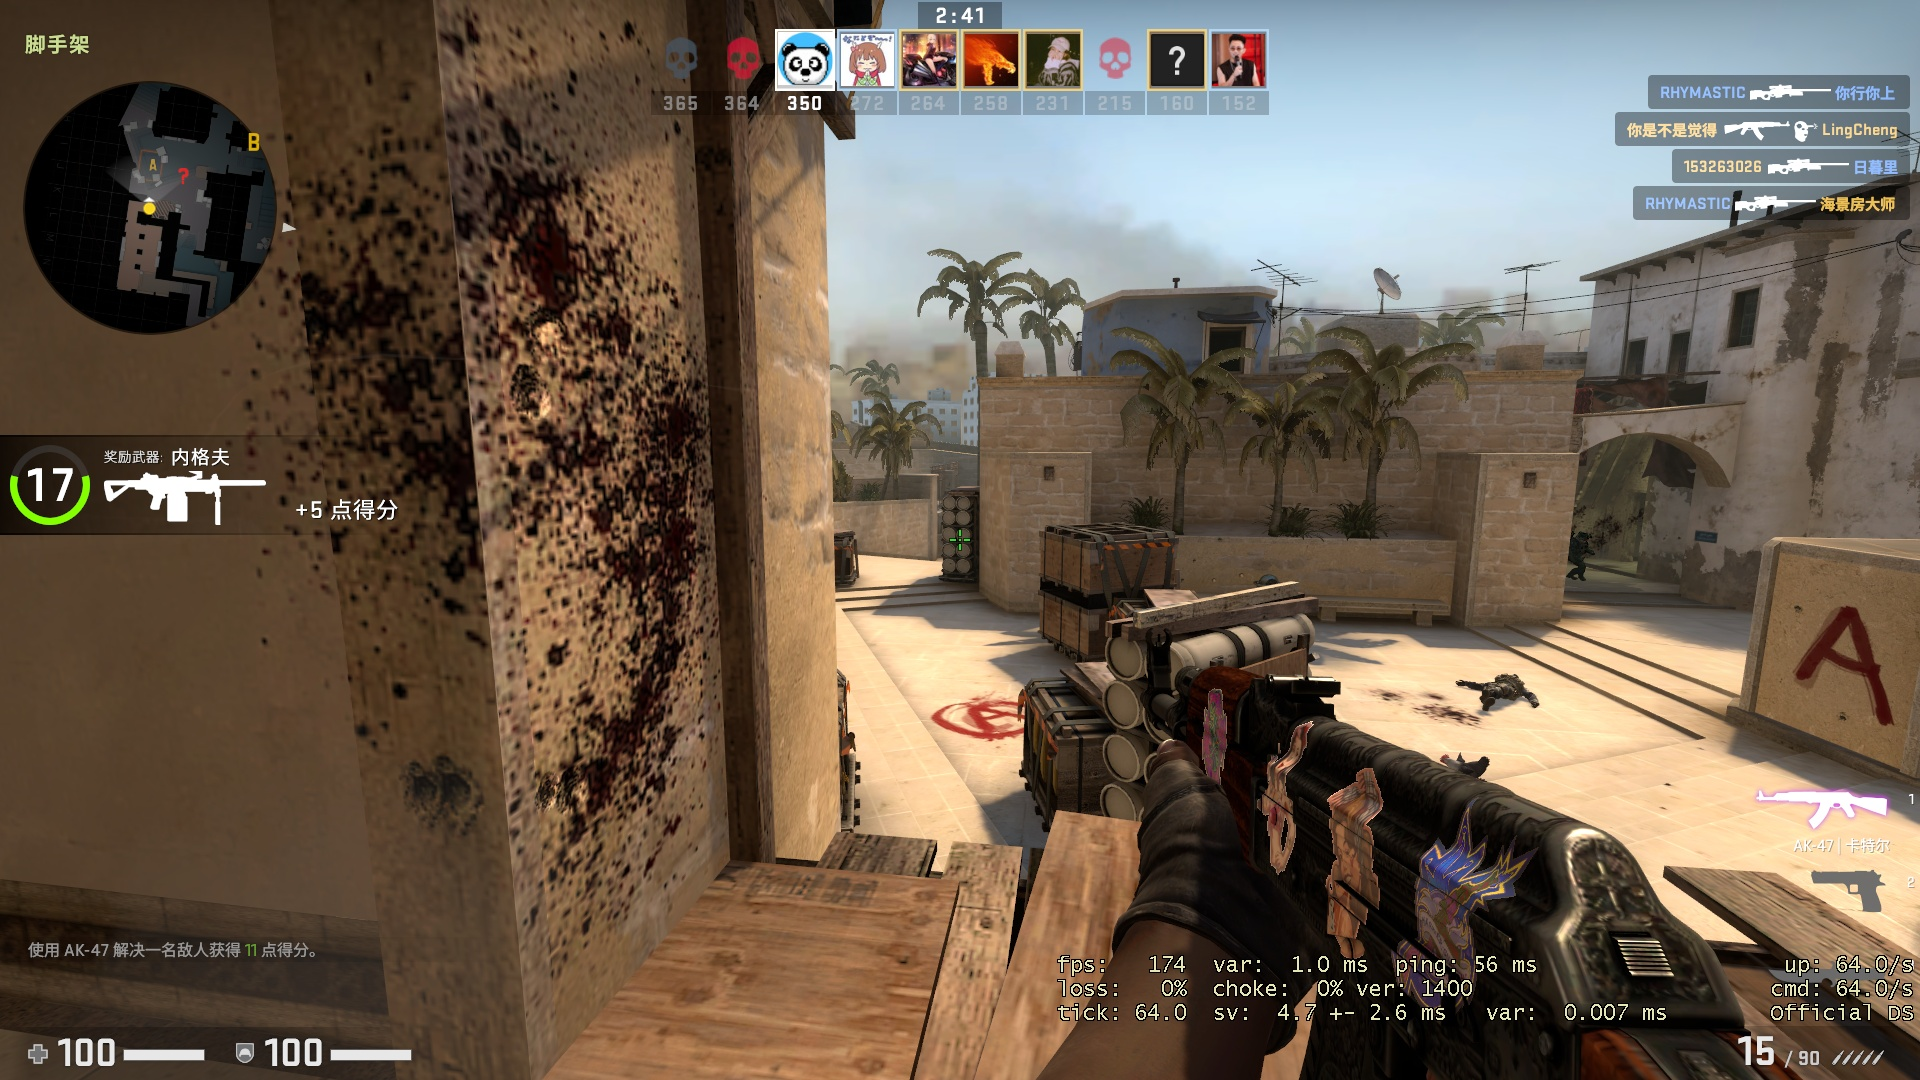body: (1467, 671, 1540, 708), (1570, 531, 1592, 582)
head: (1579, 531, 1590, 544)
